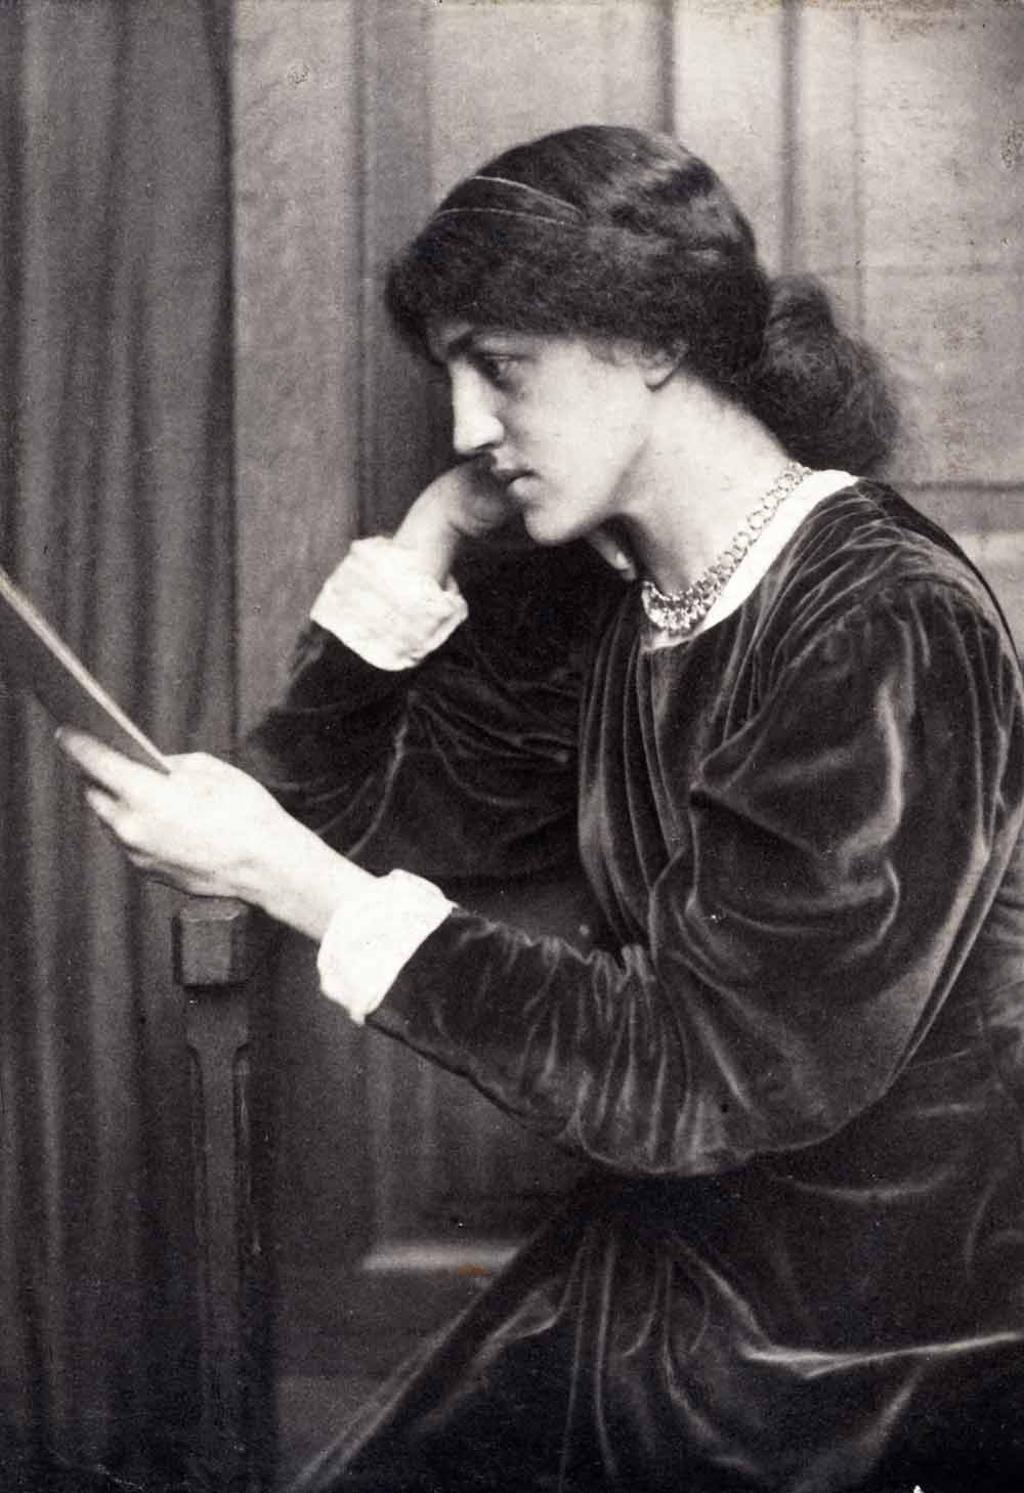face: (430, 264, 655, 544)
